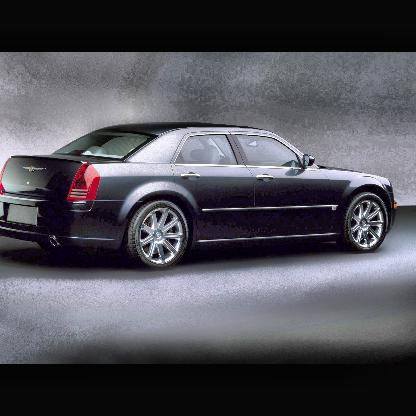Chrysler 300 SRT-8 2010: (1, 122, 398, 268)
